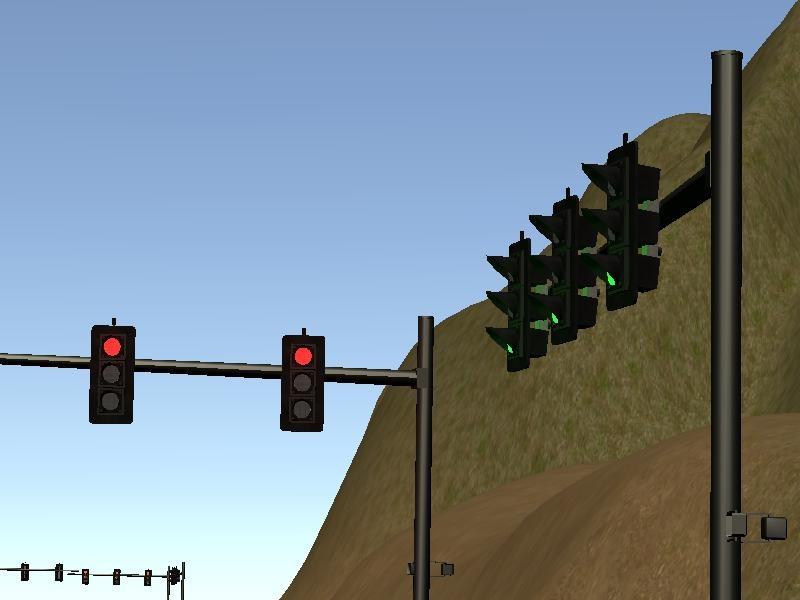RED: (88, 325, 137, 425), (279, 334, 326, 433)
